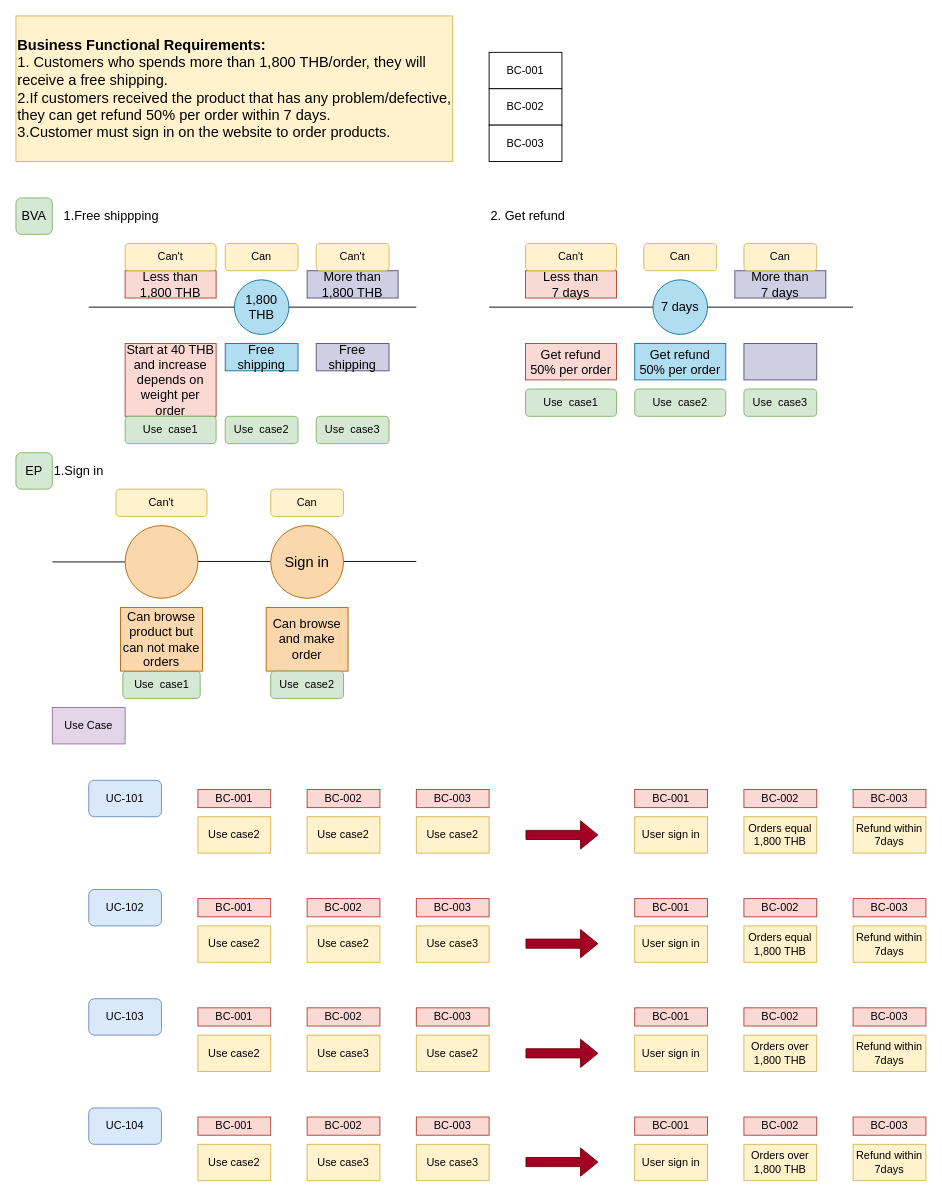
Image size: 942x1197. Some labels were removed from this diagram. Here are the shapes that lost their labels. From the top down, the centre of each, then its label:
pixel 780 361: Cannot get refund
pixel 161 561: Not sign in
